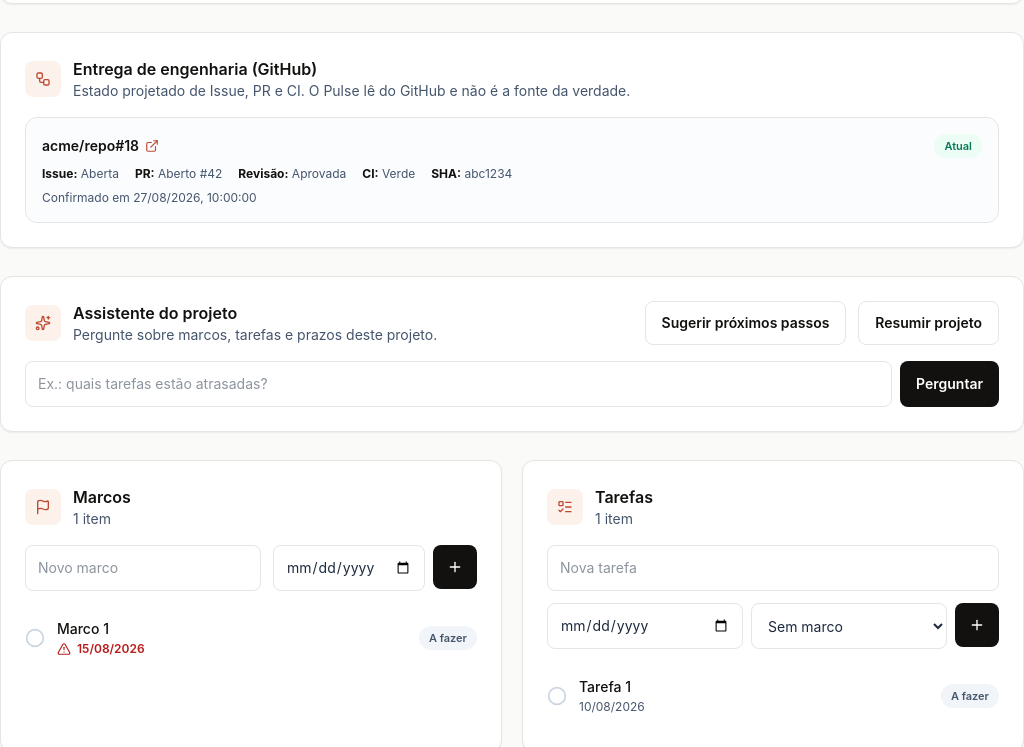
Test: pergunta ao assistente de IA e mostra a resposta
The width and height of the screenshot is (1024, 747).
(page scrolled)
Type "Qual o status?" into the field named "Pergunta ao assistente" at (458, 384), box [25,361,892,407]
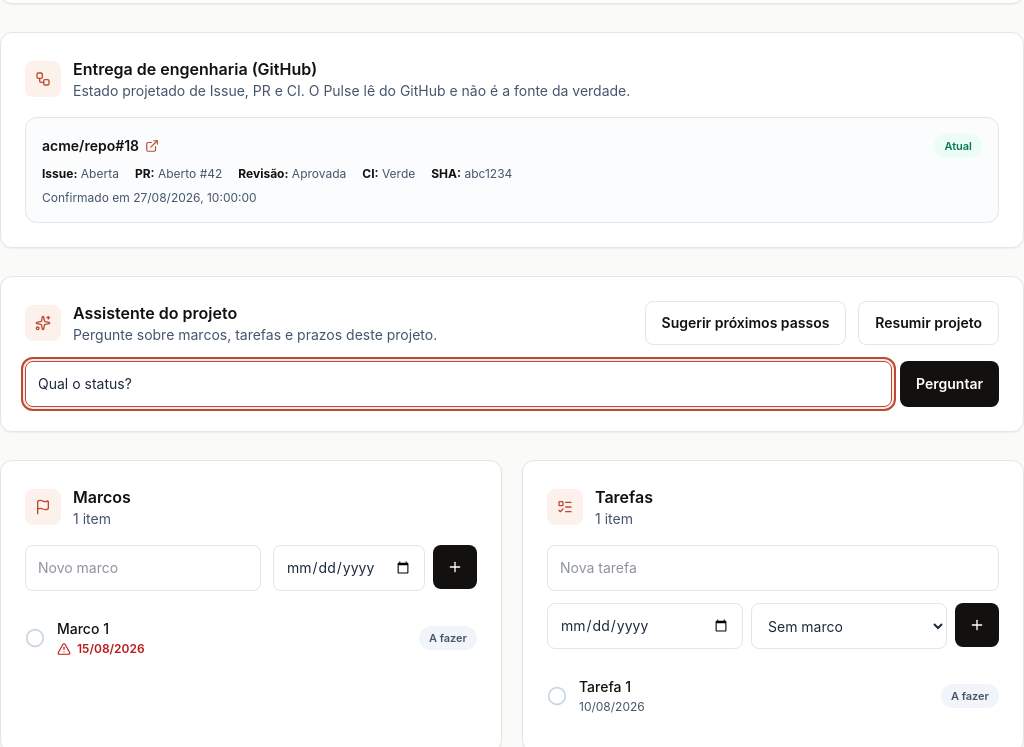
Click the button "Perguntar" at (950, 384), box [900,361,999,407]
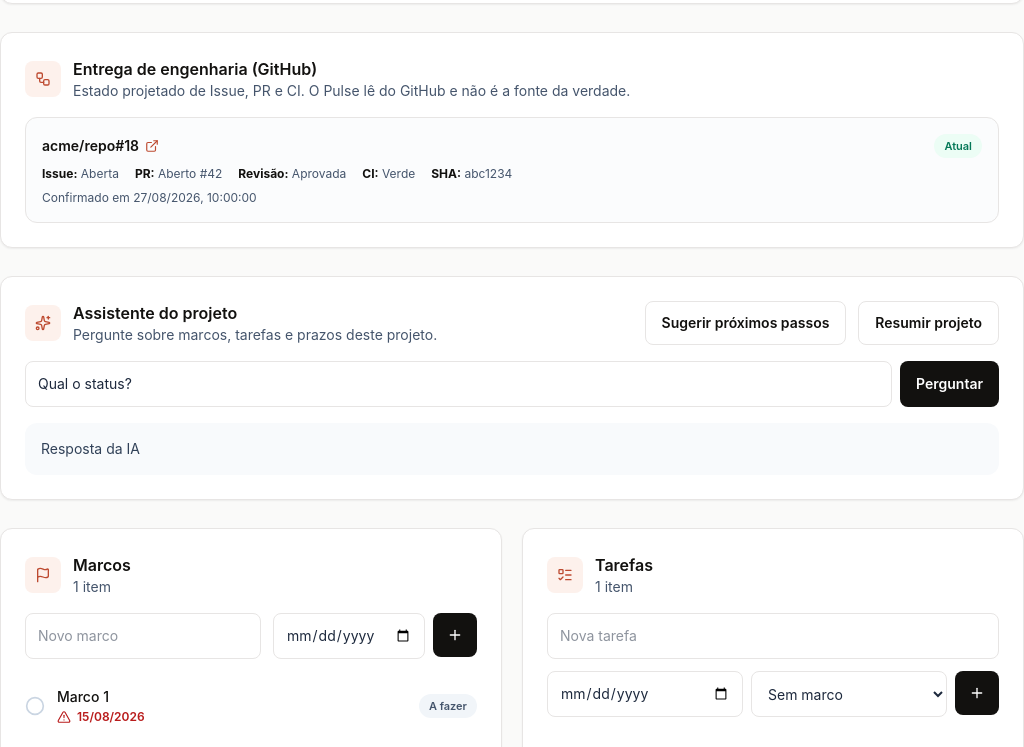
Expected: the text "Resposta da IA" is shown, [25,423,999,475]
